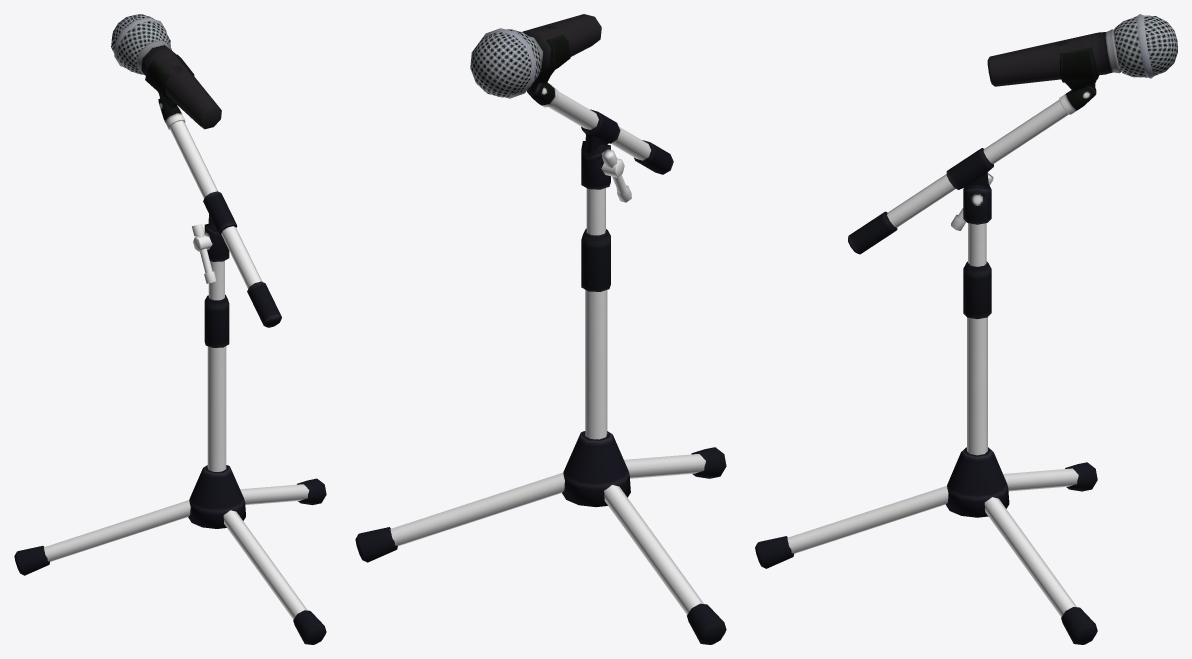
The picture shows the model from 3 angles, left to right: view 1: azimuth 30°, elevation 25°; view 2: azimuth 150°, elevation 25°; view 3: azimuth 270°, elevation 25°; orthographic projection. The views are drawn at different scales.
Size of the model in its own units: 6.55 by 10.17 by 7.08.
1 material, 1 textured.
